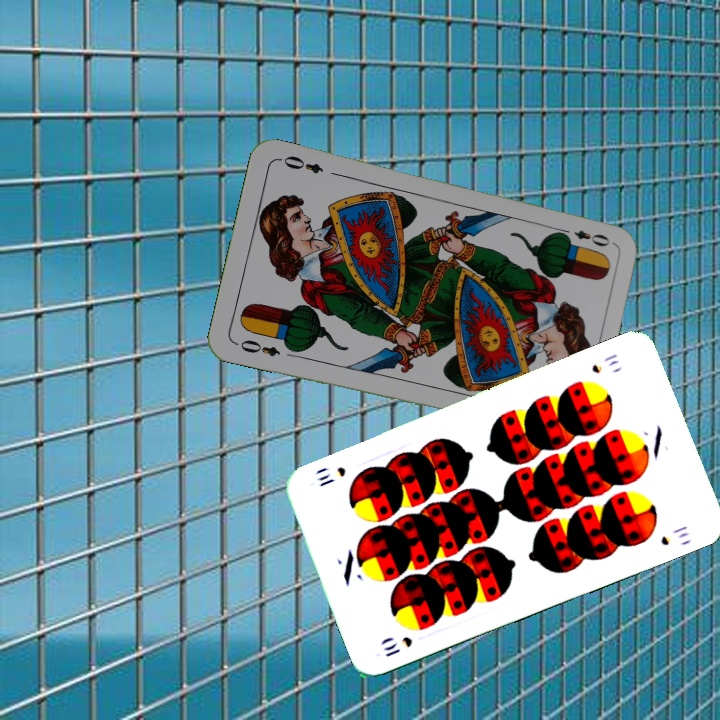EO: (555, 224, 613, 249), (231, 335, 283, 360)
S10: (379, 632, 415, 660), (587, 349, 622, 376)
